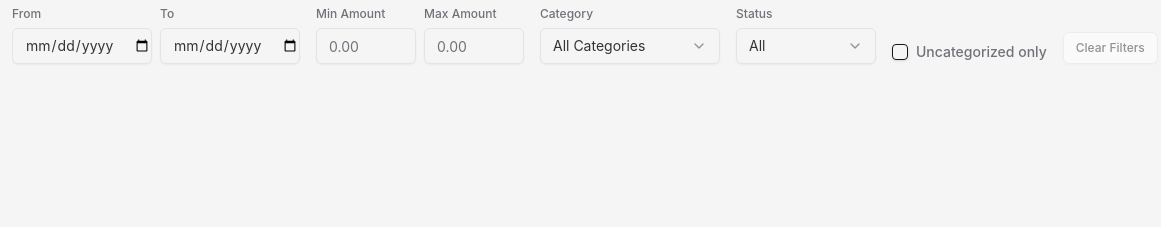
Test: TransactionFilters › State dropdown › shows all state options
Click the dropdown named "Status".
click(806, 46)  # box [736,28,876,64]
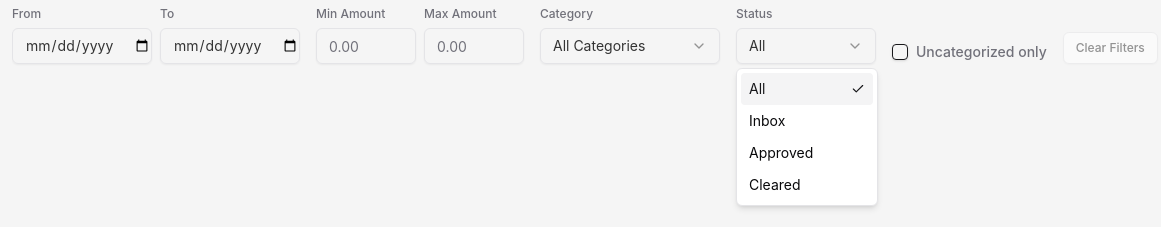
Expected: the option "All" is shown, [741,73,873,105]
Expected: the option "Inbox" is shown, [749,112,785,129]
Expected: the option "Approved" is shown, [749,144,813,161]
